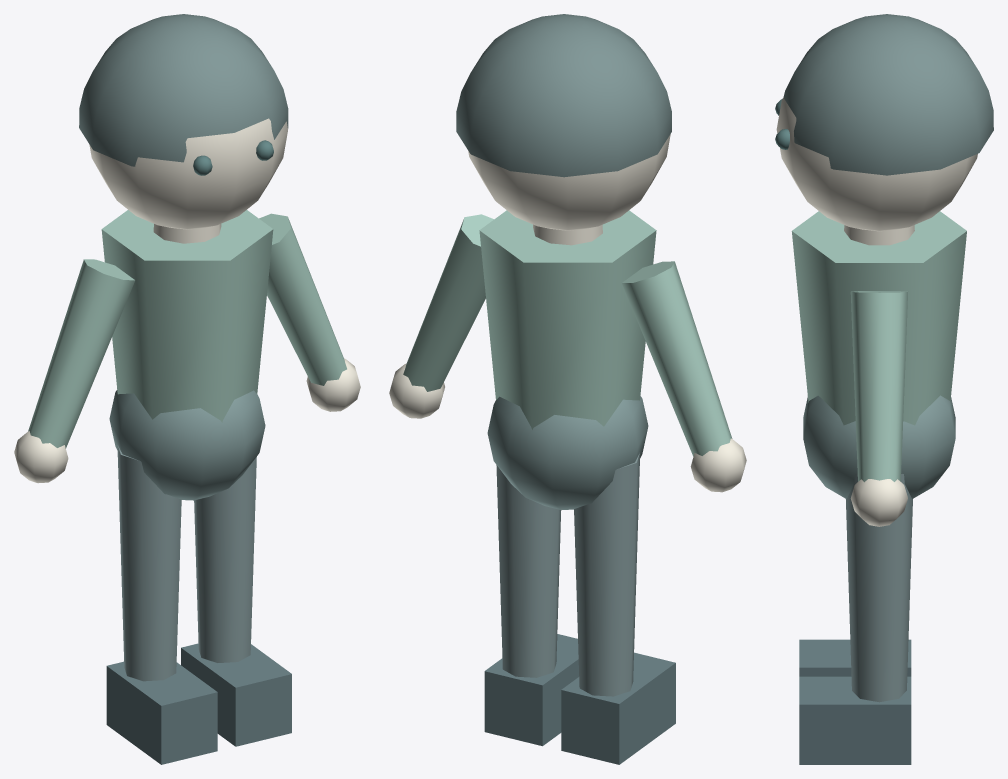
Rendered from mannequin.glb.
3 views of the same model, side by side, from view 1: azimuth 30°, elevation 25°; view 2: azimuth 150°, elevation 25°; view 3: azimuth 270°, elevation 25° (orthographic). The views are drawn at different scales.
Visible parts, largest first — view 1: Torso, Cabello esquematico, Pierna (×2), Brazo (×2), Bota (×2), Cabeza, Cadera, Mano (×2), Cuello; view 2: Torso, Cabello esquematico, Pierna (×2), Brazo (×2), Bota (×2), Cadera, Cabeza, Mano (×2), Cuello; view 3: Cabello esquematico, Torso, Pierna, Bota (×2), Cabeza, Brazo, Cadera, Mano, Cuello.
Part boxes in pixels (bbox=[...]): Torso: bbox=[101, 210, 273, 422]; Cabello esquematico: bbox=[79, 14, 288, 166]; Pierna (×2): bbox=[117, 444, 256, 681]; Brazo (×2): bbox=[28, 213, 346, 448]; Bota (×2): bbox=[106, 643, 291, 764]; Cabeza: bbox=[89, 118, 287, 229]; Cadera: bbox=[109, 390, 265, 500]; Mano (×2): bbox=[14, 358, 360, 483]; Cuello: bbox=[153, 224, 221, 243]; Torso: bbox=[479, 210, 656, 429]; Cabello esquematico: bbox=[456, 14, 671, 177]; Pierna (×2): bbox=[496, 452, 640, 696]; Brazo (×2): bbox=[403, 214, 732, 456]; Bota (×2): bbox=[484, 634, 675, 764]; Cadera: bbox=[487, 396, 648, 509]; Cabeza: bbox=[468, 134, 670, 230]; Mano (×2): bbox=[389, 364, 746, 492]; Cuello: bbox=[533, 224, 602, 245]; Cabello esquematico: bbox=[783, 14, 993, 175]; Torso: bbox=[791, 211, 966, 425]; Pierna: bbox=[846, 474, 912, 702]; Bota (×2): bbox=[799, 639, 911, 764]; Cabeza: bbox=[776, 98, 977, 231]; Brazo: bbox=[850, 291, 907, 482]; Cadera: bbox=[803, 395, 955, 498]; Mano: bbox=[850, 479, 907, 526]; Cuello: bbox=[844, 225, 914, 245].
Bounding box in the file's own units: 1.33 × 2.58 × 0.7234.
